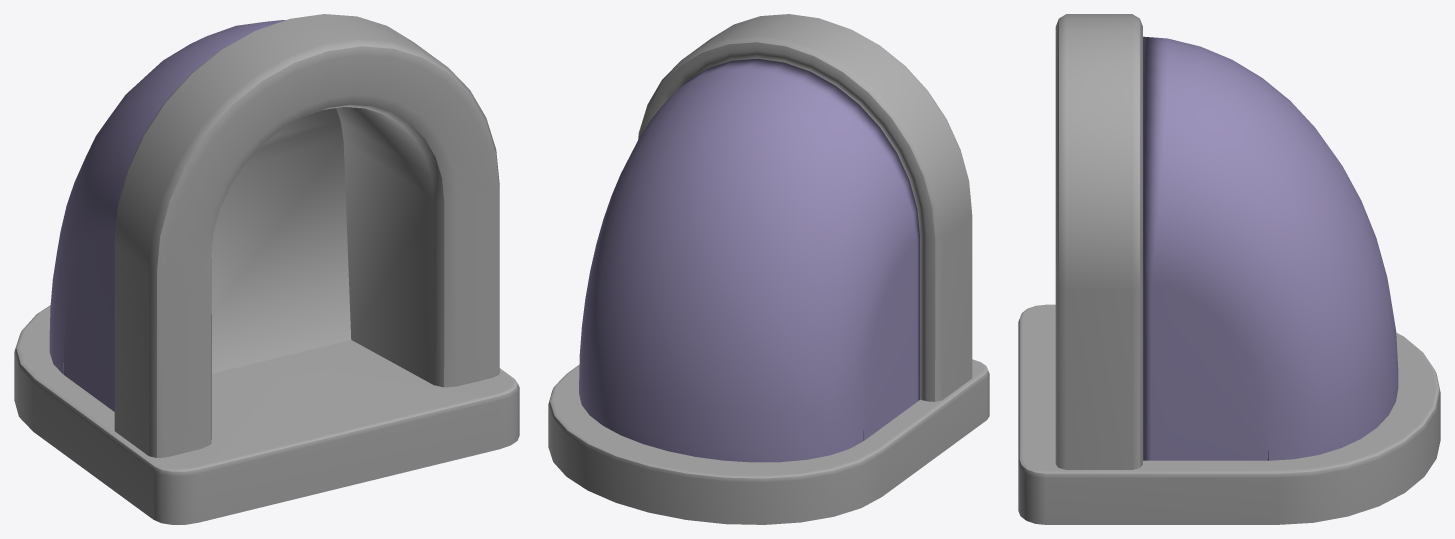
Rendered from Gara.fbx.
The picture shows the model from 3 angles, left to right: view 1: azimuth 30°, elevation 25°; view 2: azimuth 150°, elevation 25°; view 3: azimuth 270°, elevation 25°; orthographic projection. The views are drawn at different scales.
Parts seen in each view (by area): view 1: Model; view 2: Model; view 3: Model.
Part boxes in pixels (<box>): Model: <box>14,14,519,524</box>; Model: <box>548,14,989,524</box>; Model: <box>1018,14,1440,524</box>.
Bounding box in the file's own units: 106 × 119 × 111.
